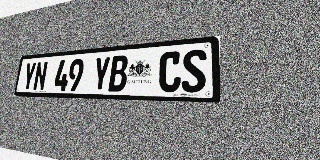4: (53, 59, 70, 91)
9: (67, 58, 85, 91)
B: (108, 55, 129, 92)
C: (158, 51, 182, 92)
N: (33, 61, 48, 91)
S: (181, 49, 207, 93)
Y: (92, 56, 111, 92), (22, 62, 37, 91)
